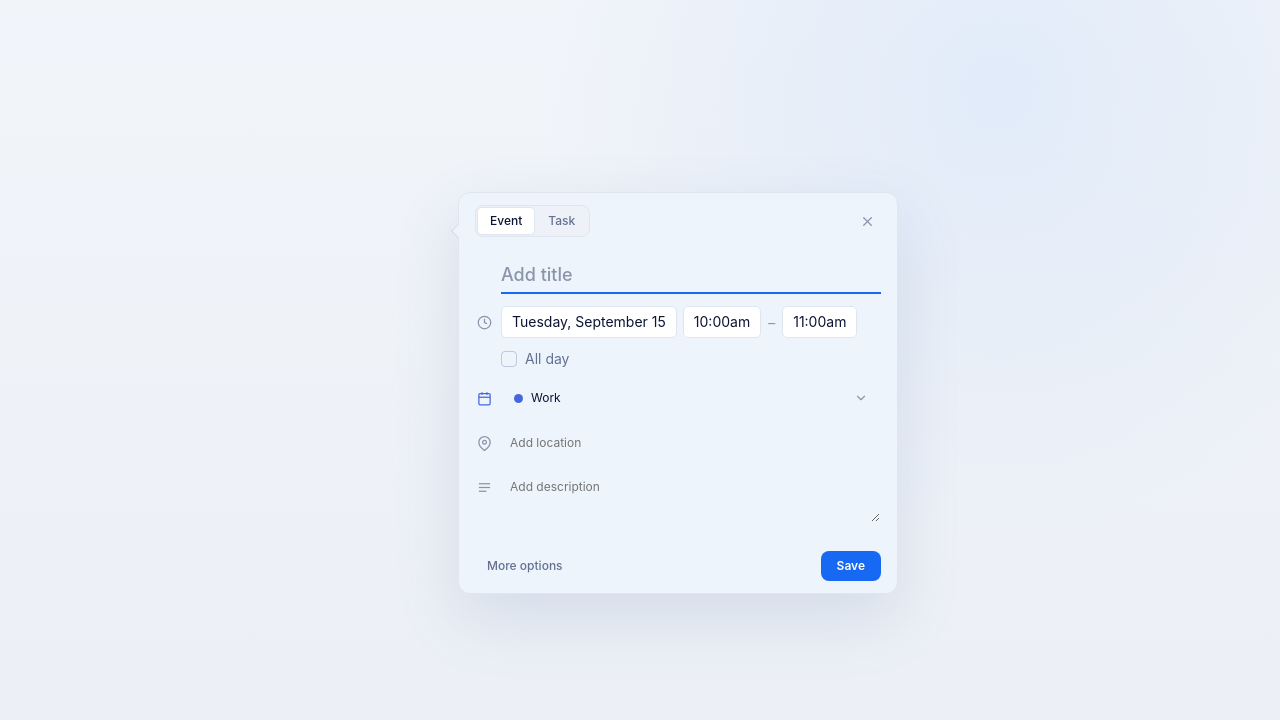
it: QuickCreatePopover focus trap and modes › keeps focus and the typed title when switching between Event and Task
This screenshot has width=1280, height=720.
Type "Plan offsite" into the field labelled "title".
click(691, 274); type("Plan offsite")  # box [501,253,881,294]
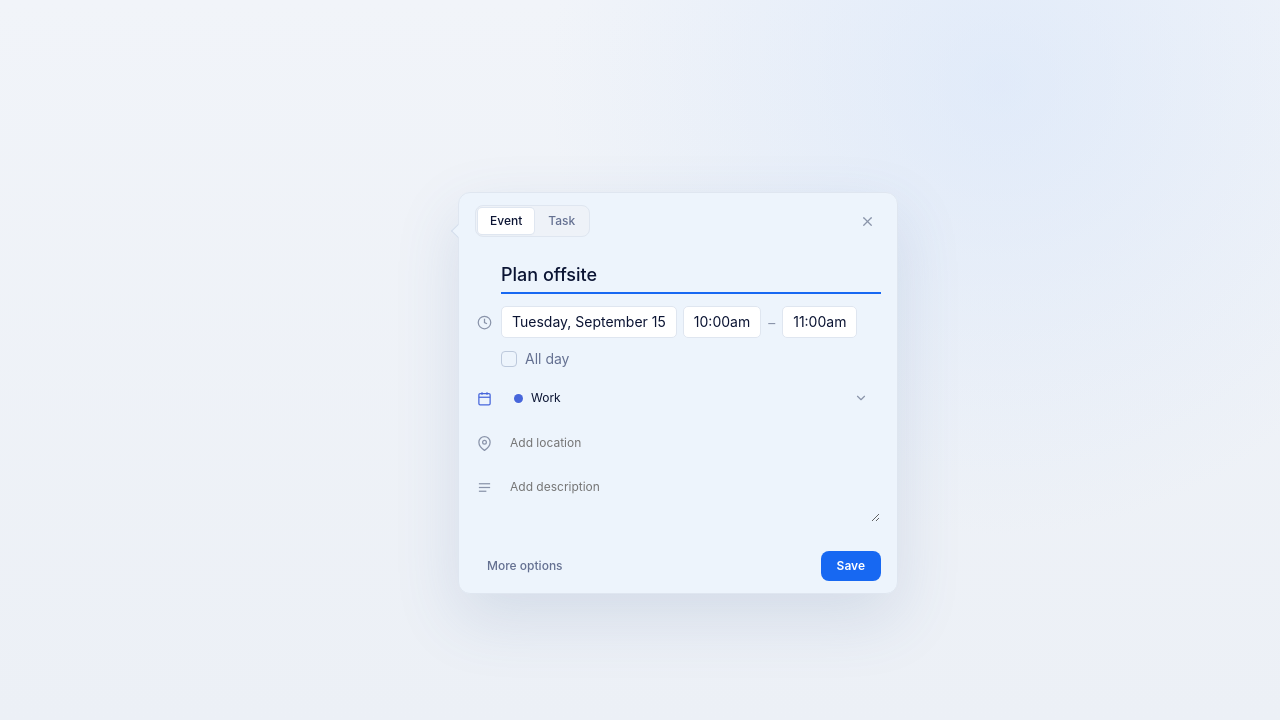
Click the button "Save".
click(851, 566)  # box [821,551,881,581]
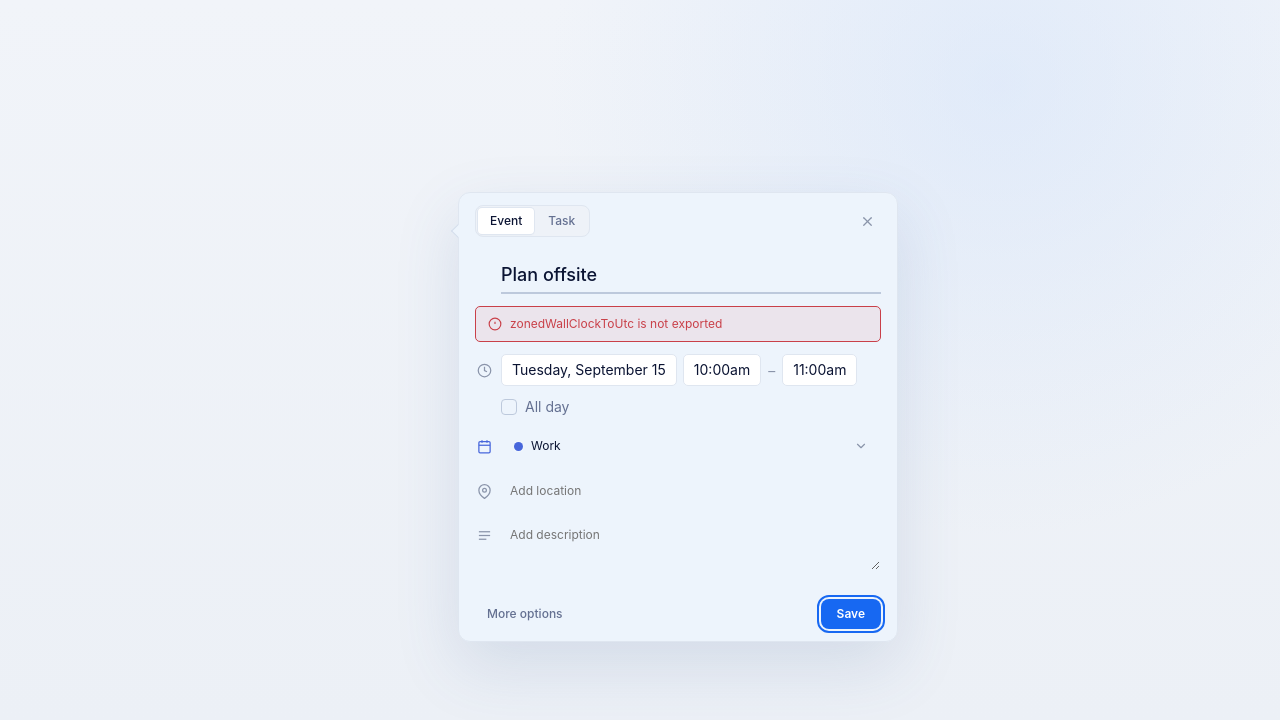
Clear the field named "title" at [691, 274], box [501,253,881,294]
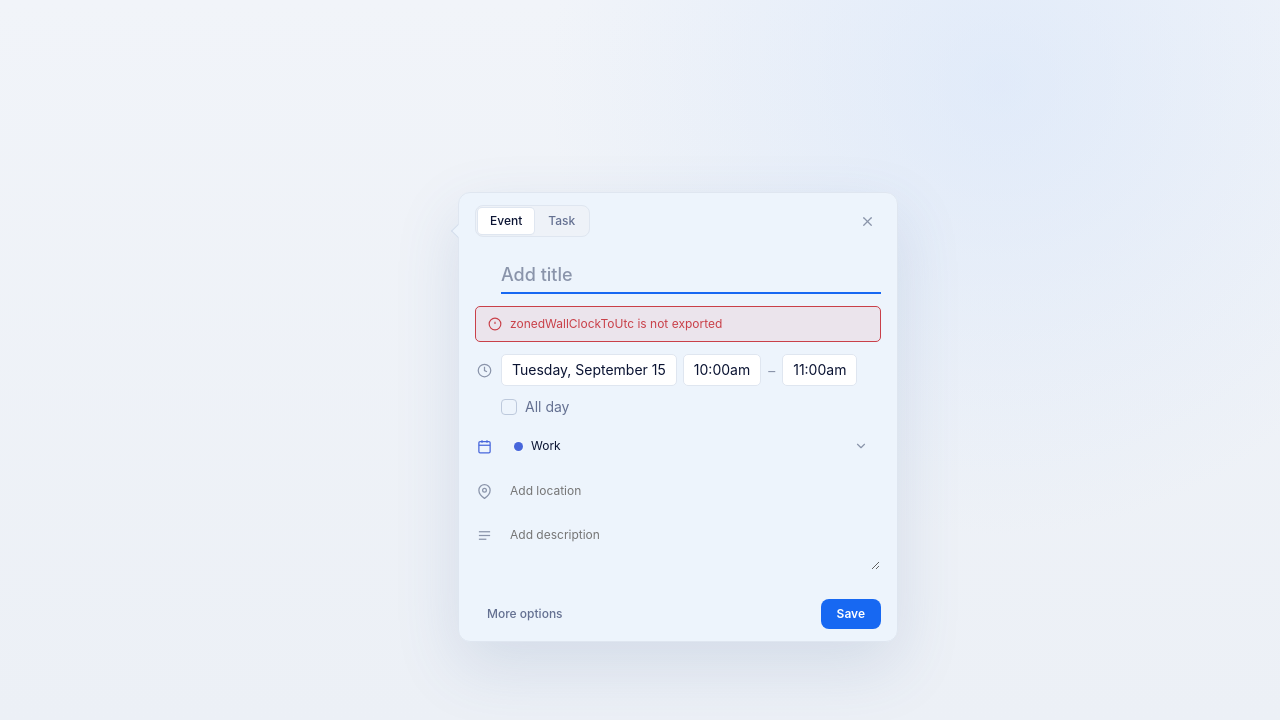
Click the button "Save".
click(851, 614)  # box [821,599,881,629]
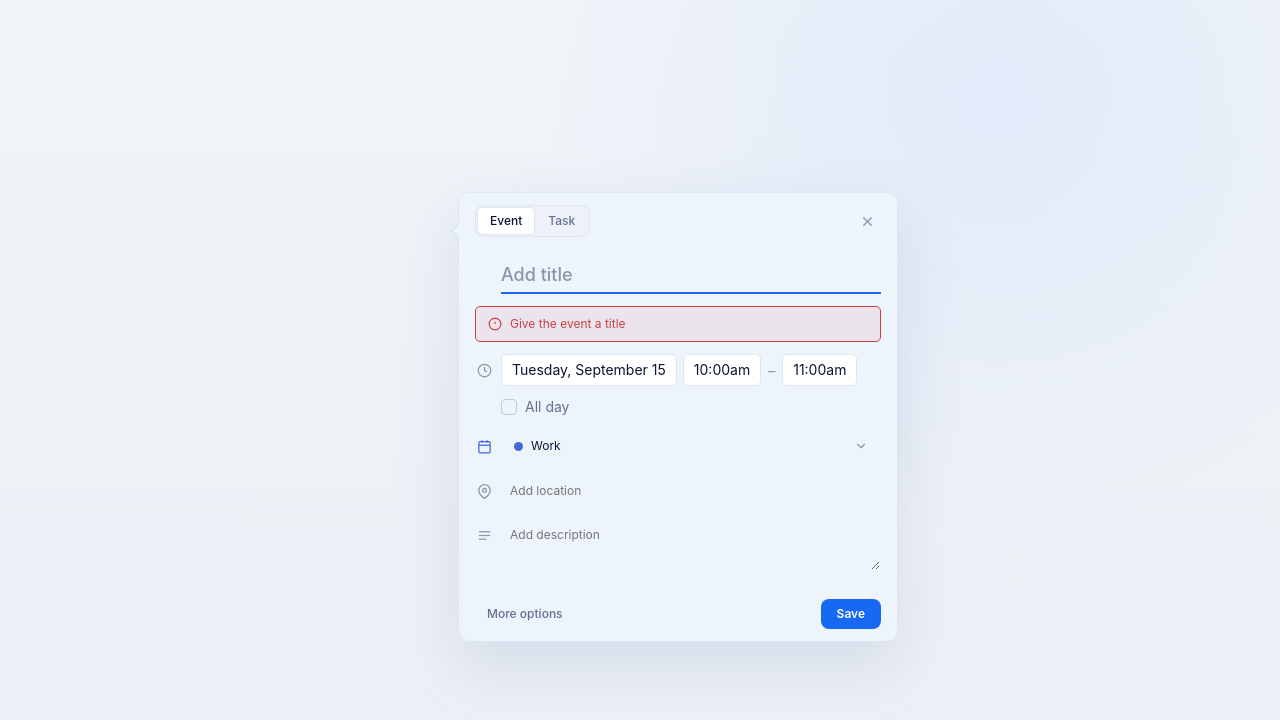
Now the message reads "Give the event a title", box [510,316,626,331]
Type "Plan offsite" into the field labelled "title".
click(691, 274); type("Plan offsite")  # box [501,253,881,294]
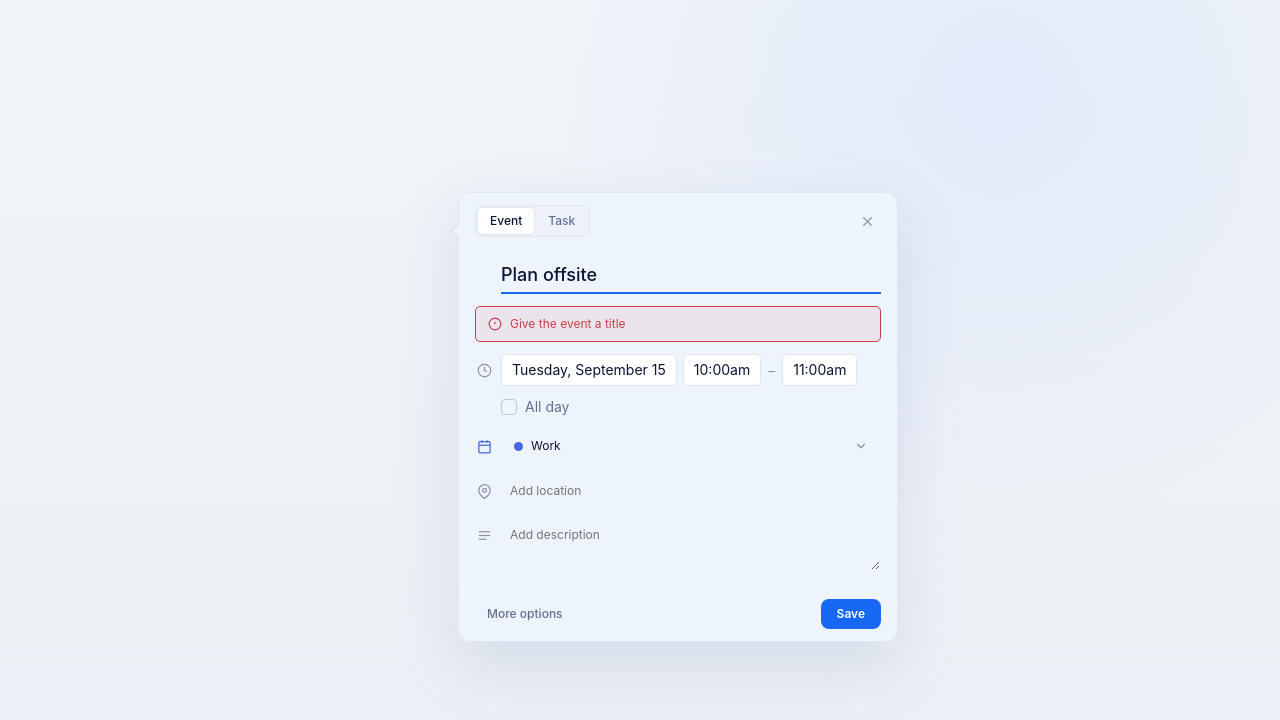
Click the tab "Task".
click(562, 221)  # box [536,208,587,234]
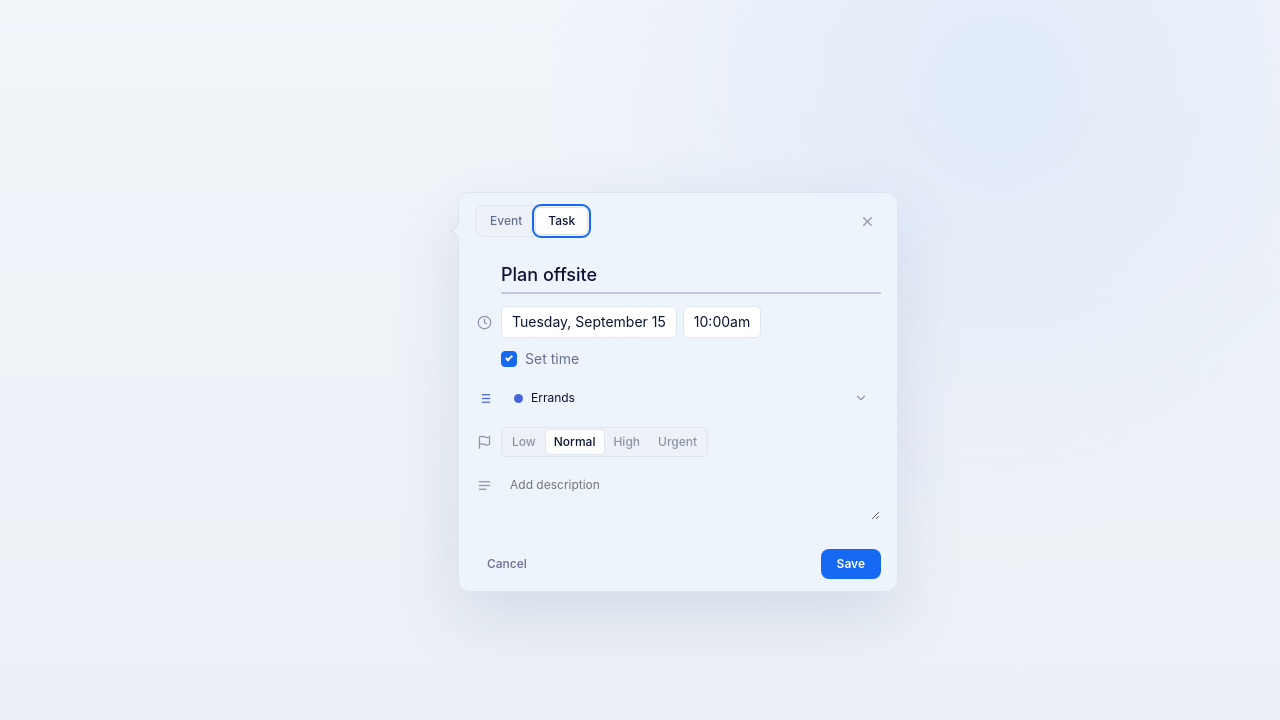
Now the message "Give the event a title" is gone
Now the dropdown named "Choose task list" is shown, box [501,381,881,415]
